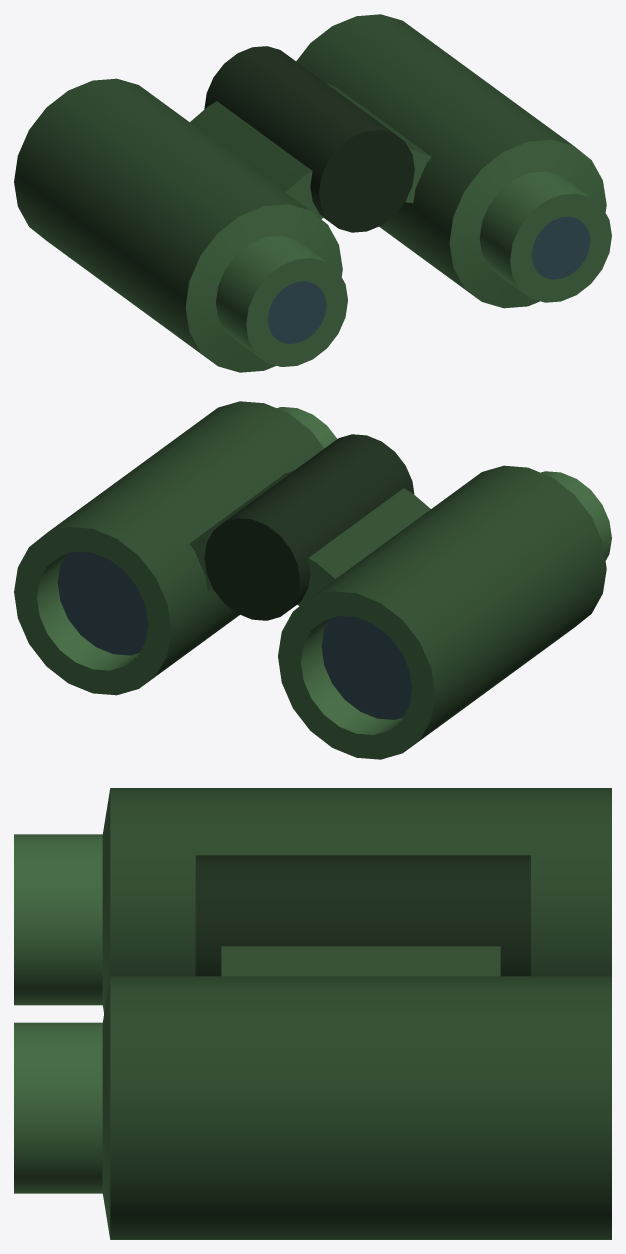
The model's file is Binocular.fbx.
3 renders of one model, top to bottom at view 1: azimuth 30°, elevation 25°; view 2: azimuth 150°, elevation 25°; view 3: azimuth 270°, elevation 25°, orthographic. The views are drawn at different scales.
Parts seen in each view (by area): view 1: Binocular; view 2: Binocular; view 3: Binocular.
Part boxes in pixels (x1=…): Binocular: x1=14, y1=14, x2=611, y2=372; Binocular: x1=14, y1=401, x2=611, y2=759; Binocular: x1=14, y1=788, x2=611, y2=1239.
Size of the model in its own units: 0.5916 by 0.2496 by 0.4975.
